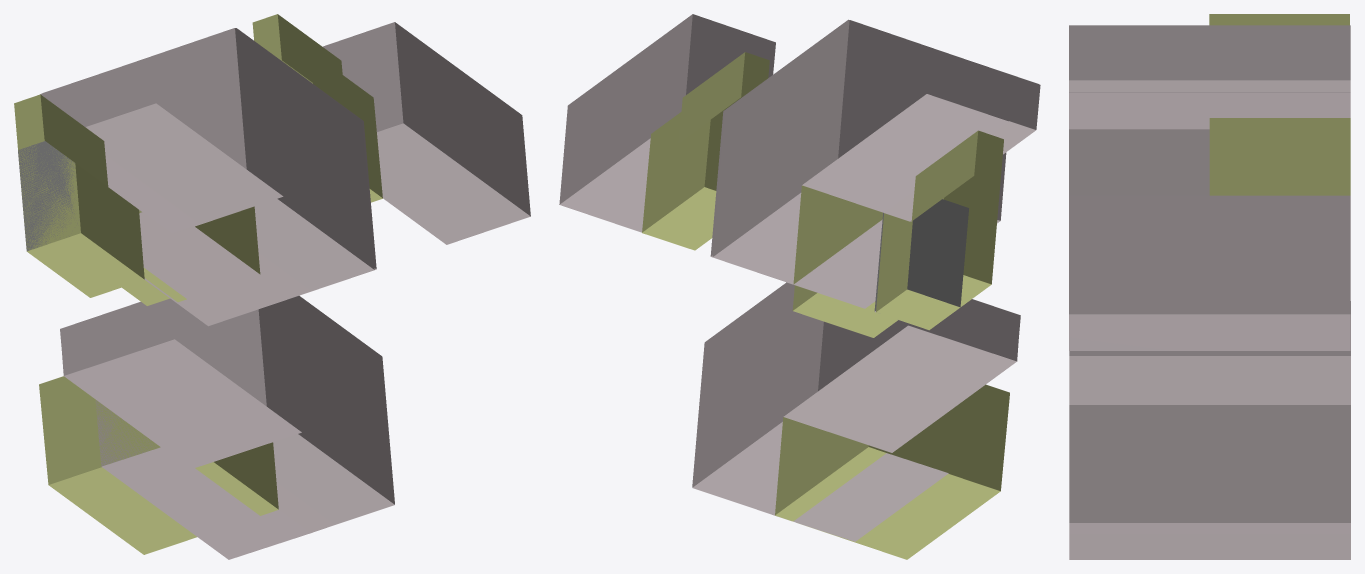
3 renders of one model, left to right at view 1: azimuth 30°, elevation 25°; view 2: azimuth 150°, elevation 25°; view 3: azimuth 270°, elevation 25°, orthographic. The views are drawn at different scales.
Visible parts, largest first — view 1: 0_2_3_3_3_1_0_3_1_2; view 2: 0_2_3_3_3_1_0_3_1_2; view 3: 0_2_3_3_3_1_0_3_1_2.
Part boxes in pixels (<box>): 0_2_3_3_3_1_0_3_1_2: <box>14,14,530,559</box>; 0_2_3_3_3_1_0_3_1_2: <box>559,14,1040,559</box>; 0_2_3_3_3_1_0_3_1_2: <box>1069,14,1350,559</box>.
Bounding box in the file's own units: 21.18 × 21.58 × 12.02.
